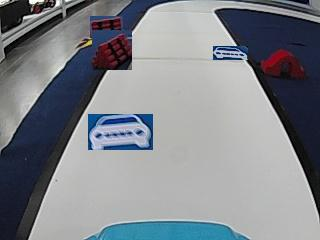bridge: (262, 48, 305, 77)
